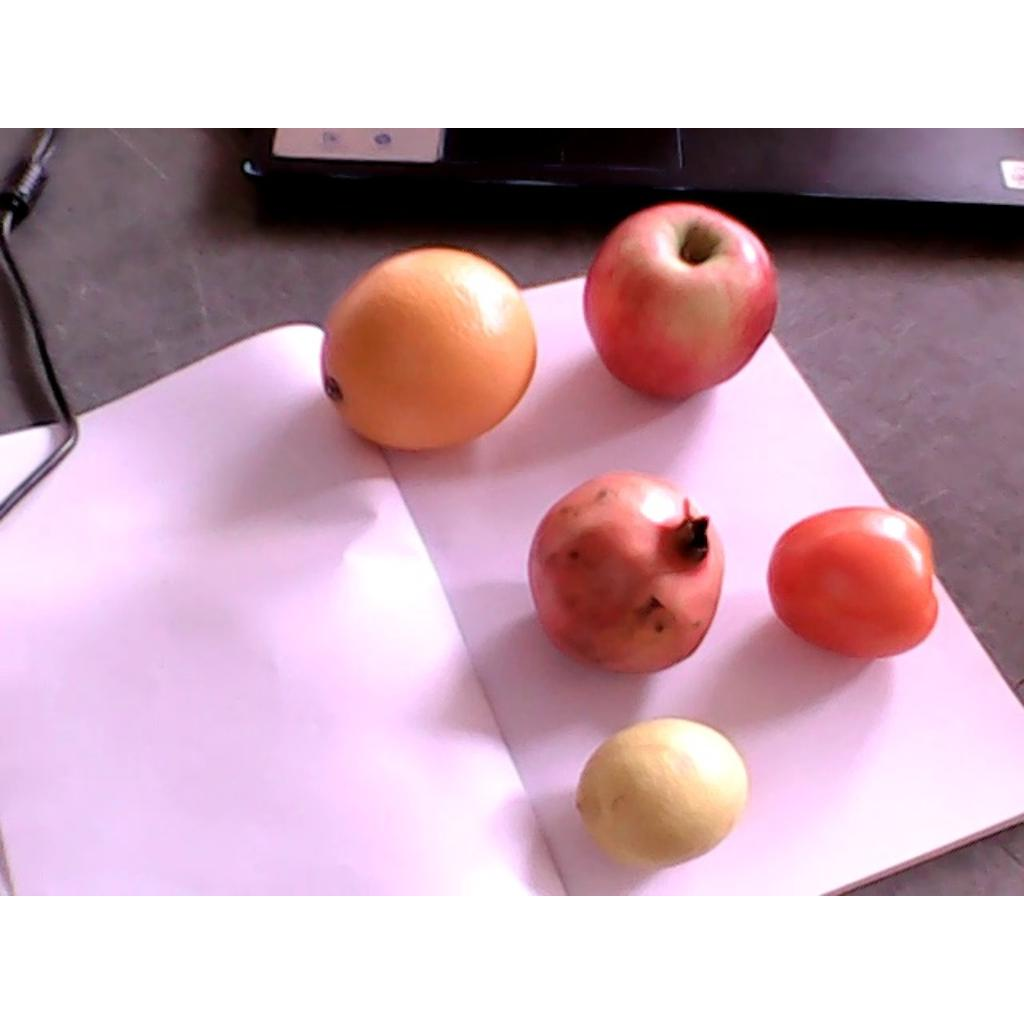apple: (585, 201, 778, 403)
lemon: (575, 717, 749, 863)
orange: (322, 248, 537, 450)
pomegranate: (530, 474, 724, 673)
tomato: (768, 506, 939, 659)
